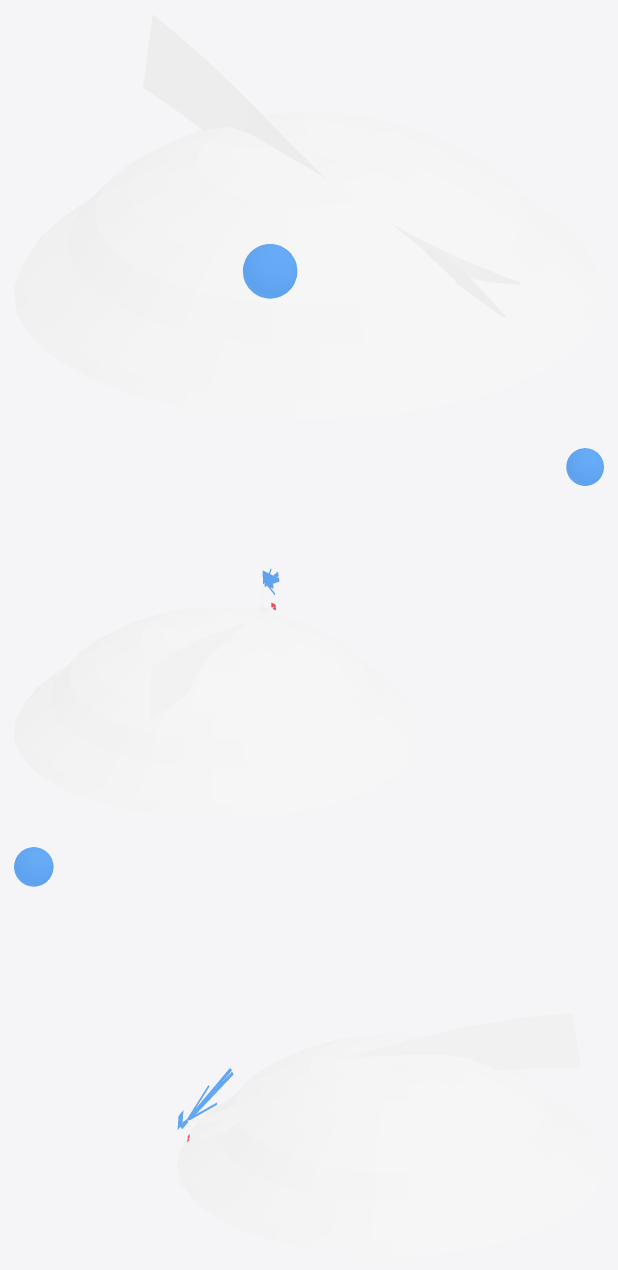
Rendered from stars.glb.
The picture shows the model from 3 angles, top to bottom: view 1: azimuth 30°, elevation 25°; view 2: azimuth 150°, elevation 25°; view 3: azimuth 270°, elevation 25°; orthographic projection. The views are drawn at different scales.
Parts seen in each view (by area): view 1: Sphere.003, Sphere, BezierCurve.001, Sphere.002, BezierCurve; view 2: Sphere.003, Sphere, BezierCurve.001, Sphere.002; view 3: Sphere.003, BezierCurve.001, Sphere, Sphere.002.
Boxes of the visible parts, <box> form: Sphere.003: <box>23,112,594,399</box>; Sphere: <box>14,257,603,419</box>; BezierCurve.001: <box>143,15,520,284</box>; Sphere.002: <box>242,244,297,298</box>; BezierCurve: <box>426,247,506,317</box>; Sphere.003: <box>19,606,415,805</box>; Sphere: <box>14,706,420,818</box>; BezierCurve.001: <box>150,583,264,722</box>; Sphere.002: <box>566,448,603,485</box>; Sphere.003: <box>184,1033,596,1240</box>; BezierCurve.001: <box>187,1013,580,1122</box>; Sphere: <box>176,1139,603,1255</box>; Sphere.002: <box>14,847,53,886</box>.
Bounding box in the file's own units: 104 × 52.99 × 130.
